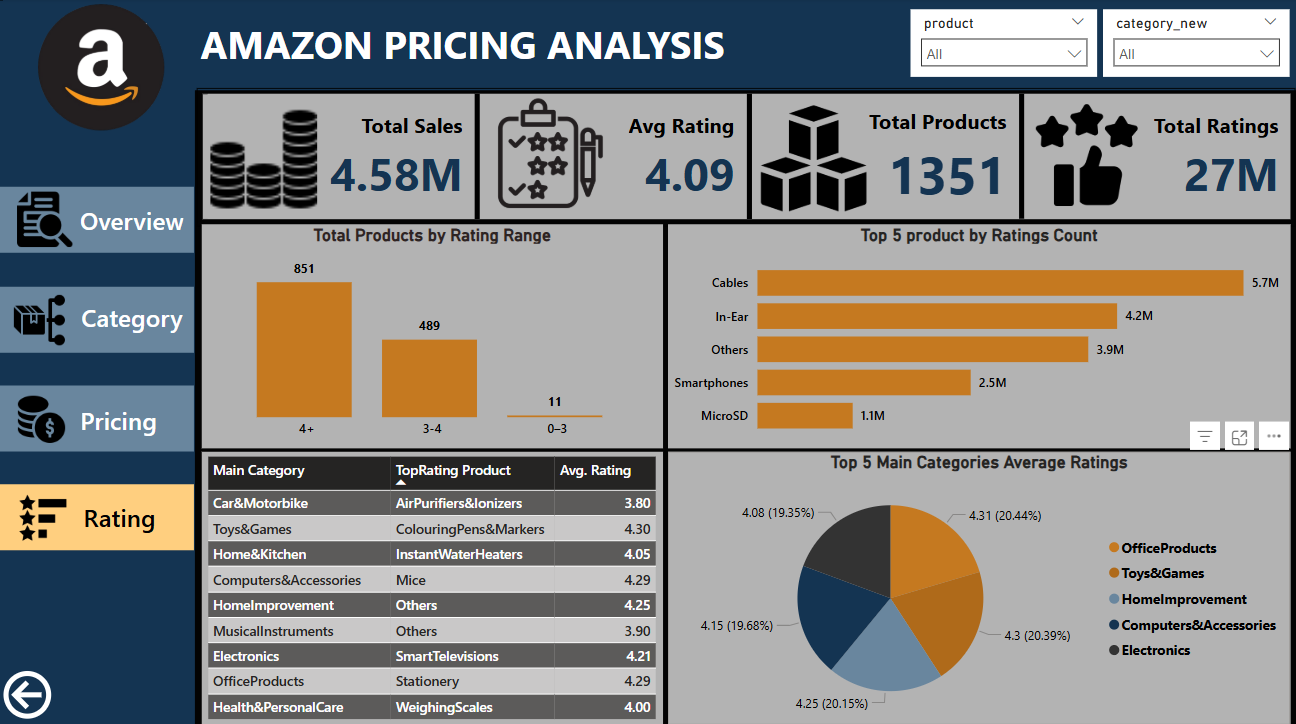

Layout of this report page (visuals, bound fields, positions):
{"tool":"powerbi","page":{"name":"Rating_analysis","canvas":[1280,720],"ordinal":3},"visuals":[{"type":"group","id":"g1","title":"Group 3","box":[0,1.4,1280.3,718.4],"z":0},{"type":"group","id":"g2","title":"Group 2","box":[0,1.4,1280.3,718.4],"z":0,"group":"g1"},{"type":"shape","box":[4.3,1.4,1276,89.3],"z":0,"group":"g5"},{"type":"group","id":"g3","title":"Group 4","box":[194.8,88,1078,135.6],"z":0,"group":"g4"},{"type":"image","box":[2.9,1.4,197.7,134.2],"z":1000},{"type":"textbox","box":[193.3,14.4,702.6,73.6],"z":1000,"group":"g5"},{"type":"image","box":[703.3,101,194.6,114],"z":1000,"group":"g4"},{"type":"shape","box":[0,185.5,193,65],"z":1000,"group":"g1"},{"type":"shape","box":[62,24.9,83.7,72.2],"z":2000,"group":"g1"},{"type":"group","id":"g4","title":"Group 5","box":[194.8,82.2,1078,148.6],"z":2000},{"type":"image","box":[203.6,82.2,115,148.6],"z":2000,"group":"g4"},{"type":"cardVisual","fields":{"Data":["ketan amazon_cleaned_data.Total Sale","ketan amazon_cleaned_data.Avg_rating","ketan amazon_cleaned_data.Total_products","ketan amazon_cleaned_data.Total_ratings"]},"box":[194.8,88,1078,135.6],"z":2000,"group":"g3"},{"type":"image","box":[959.8,99.5,218.2,109.6],"z":3000,"group":"g4"},{"type":"image","box":[12.3,185.5,67.5,63.8],"z":3000,"group":"g1"},{"type":"tableEx","fields":{"Values":["ketan amazon_cleaned_data.broad_category","ketan amazon_cleaned_data.TopRating Product","ketan amazon_cleaned_data.Avg. Rating"]},"box":[200,445.4,452.8,268.7],"z":3000},{"type":"group","id":"g5","title":"Group 1","box":[4.3,1.4,1276,89.3],"z":4000,"group":"g2"},{"type":"slicer","fields":{"Values":["ketan amazon_cleaned_data.category_new"]},"box":[1085,11.5,183.2,66.4],"z":4000},{"type":"image","box":[430.6,92.3,222.6,121.2],"z":4000,"group":"g4"},{"type":"slicer","fields":{"Values":["ketan amazon_cleaned_data.product"]},"box":[896,11.5,183.2,66.4],"z":5000},{"type":"shape","box":[0,2.8,193.3,717],"z":5008,"group":"g2"},{"type":"shape","box":[0,283.4,193,65],"z":6000},{"type":"shape","box":[0.2,476.8,193,65],"z":7000},{"type":"shape","box":[0,380.4,193,65],"z":8000},{"type":"group","id":"g6","title":"Group 6","box":[5.8,184.7,190.4,355.7],"z":9000},{"type":"actionButton","box":[5.8,184.7,180.3,64.9],"z":10000,"group":"g6"},{"type":"image","box":[7.4,279.8,66.3,72.4],"z":10000},{"type":"image","box":[16,477.3,56.4,65],"z":11000},{"type":"shape","box":[200.9,94.1,14.7,122],"z":11502,"group":"g3"},{"type":"actionButton","box":[20.2,279.9,164.5,66.4],"z":12000,"group":"g6"},{"type":"image","box":[14.7,381.6,56.4,63.8],"z":12000},{"type":"lineStackedColumnComboChart","fields":{"Category":["ketan amazon_cleaned_data.Rating Range"],"Y":["ketan amazon_cleaned_data.Total Products"]},"box":[200,222.1,452.8,219.6],"z":13000},{"type":"barChart","title":"Top 5 product by Ratings Count","fields":{"Category":["ketan amazon_cleaned_data.product"],"Y":["ketan amazon_cleaned_data.Total Ratings"]},"box":[657.7,222.1,611,219.6],"z":14000},{"type":"actionButton","box":[40.4,382.4,155.8,62],"z":14000,"group":"g6"},{"type":"pieChart","title":"Top 5 Main Categories Average Ratings","fields":{"Y":["ketan amazon_cleaned_data.Avg Rating"],"Category":["ketan amazon_cleaned_data.Main Category"]},"box":[657.7,445.4,611,268.7],"z":15000},{"type":"actionButton","box":[0,654.8,81,57.7],"z":15001,"group":"g1"},{"type":"actionButton","box":[46,478.3,145.7,62],"z":16000,"group":"g6"}]}

Visuals, with their boxes in screenshot pixels (x1, y1, x2, y2), scaled from the page's 1280x720 canvas onto the 1296x724 screenshot:
"Group 3" group: left=0, top=1, right=1295, bottom=723
"Group 2" group: left=0, top=1, right=1295, bottom=723
shape: left=4, top=1, right=1295, bottom=91
"Group 4" group: left=197, top=88, right=1289, bottom=225
image: left=3, top=1, right=203, bottom=136
textbox: left=196, top=14, right=907, bottom=88
image: left=712, top=102, right=909, bottom=216
shape: left=0, top=187, right=195, bottom=252
shape: left=63, top=25, right=148, bottom=98
"Group 5" group: left=197, top=83, right=1289, bottom=232
image: left=206, top=83, right=323, bottom=232
cardVisual - ketan amazon_cleaned_data.Total Sale x ketan amazon_cleaned_data.Avg_rating: left=197, top=88, right=1289, bottom=225
image: left=972, top=100, right=1193, bottom=210
image: left=12, top=187, right=81, bottom=251
tableEx - ketan amazon_cleaned_data.broad_category x ketan amazon_cleaned_data.TopRating Product: left=202, top=448, right=661, bottom=718
"Group 1" group: left=4, top=1, right=1295, bottom=91
slicer - ketan amazon_cleaned_data.category_new: left=1099, top=12, right=1284, bottom=78
image: left=436, top=93, right=661, bottom=215
slicer - ketan amazon_cleaned_data.product: left=907, top=12, right=1093, bottom=78
shape: left=0, top=3, right=196, bottom=723
shape: left=0, top=285, right=195, bottom=350
shape: left=0, top=479, right=196, bottom=545
shape: left=0, top=383, right=195, bottom=448
"Group 6" group: left=6, top=186, right=199, bottom=543
actionButton: left=6, top=186, right=188, bottom=251
image: left=7, top=281, right=75, bottom=354
image: left=16, top=480, right=73, bottom=545
shape: left=203, top=95, right=218, bottom=217
actionButton: left=20, top=281, right=187, bottom=348
image: left=15, top=384, right=72, bottom=448
lineStackedColumnComboChart - ketan amazon_cleaned_data.Rating Range x ketan amazon_cleaned_data.Total Products: left=202, top=223, right=661, bottom=444
"Top 5 product by Ratings Count" barChart: left=666, top=223, right=1285, bottom=444
actionButton: left=41, top=385, right=199, bottom=447
"Top 5 Main Categories Average Ratings" pieChart: left=666, top=448, right=1285, bottom=718
actionButton: left=0, top=658, right=82, bottom=716
actionButton: left=47, top=481, right=194, bottom=543
